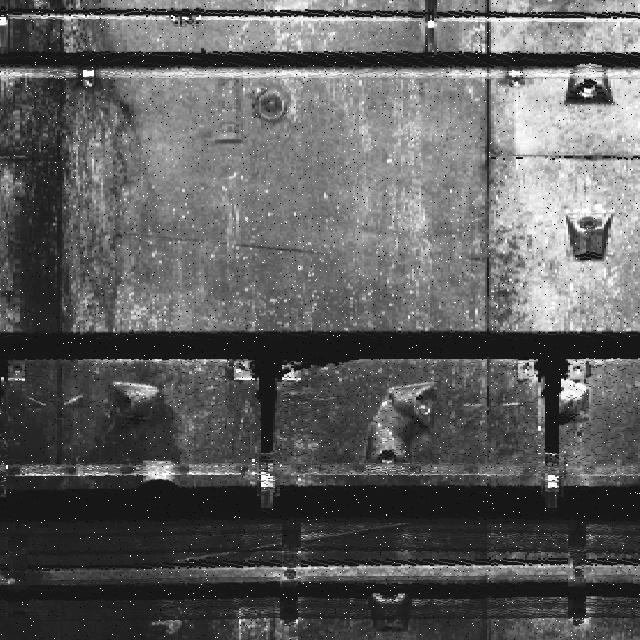leakage: (1, 0, 191, 486)
